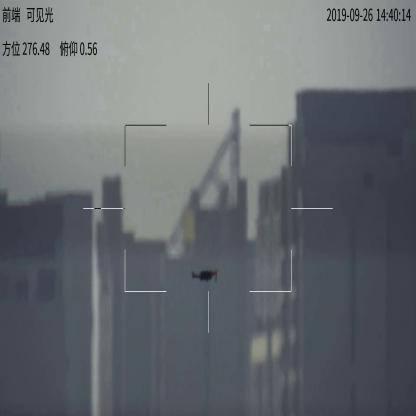uav: (187, 268, 221, 284)
